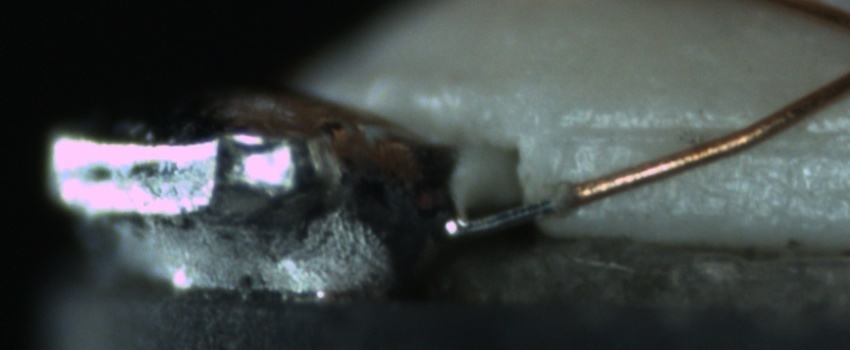DL: (559, 104, 844, 170)
TS: (441, 189, 579, 235)
TTCW: (438, 171, 624, 234)
